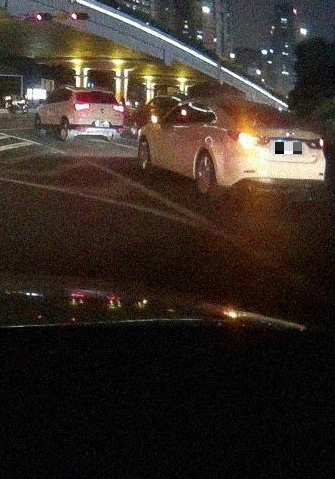L_light: (226, 129, 271, 147), (73, 103, 90, 111)
R_light: (305, 137, 325, 150), (113, 104, 124, 113)
T_light: (242, 102, 261, 108), (90, 90, 102, 94)
night-left: (209, 97, 326, 200)
night-no: (70, 89, 125, 141)
plate_1: (275, 142, 302, 154)
